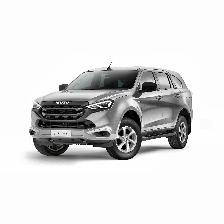NON-EV: (31, 60, 196, 161)
